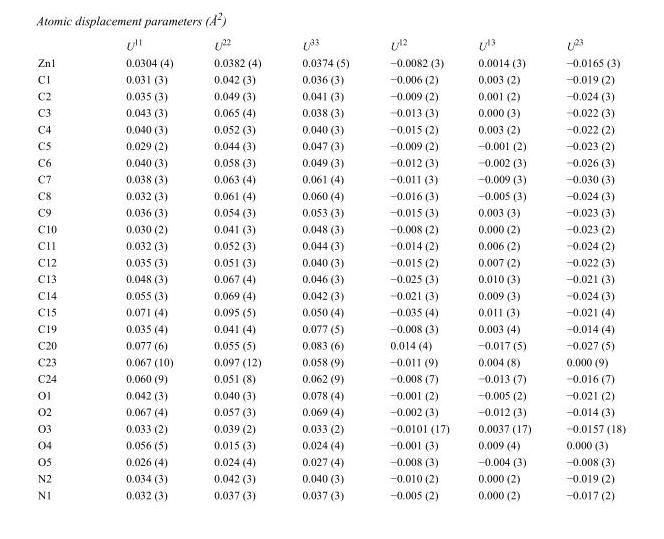table: (37, 36, 624, 500)
table column: (90, 36, 192, 500), (369, 36, 463, 500), (280, 36, 369, 500), (192, 36, 280, 500), (463, 36, 548, 500), (548, 36, 624, 500), (37, 36, 90, 500)
table column header: (37, 36, 624, 53)
table row: (37, 36, 624, 53), (37, 53, 624, 70), (37, 70, 624, 87), (37, 103, 624, 120), (37, 136, 624, 153), (37, 153, 624, 170), (37, 186, 624, 203), (37, 203, 624, 220), (37, 236, 624, 253), (37, 269, 624, 286), (37, 286, 624, 303), (37, 319, 624, 336), (37, 336, 624, 353), (37, 369, 624, 386), (37, 402, 624, 419), (37, 419, 624, 436), (37, 452, 624, 469), (37, 469, 624, 486), (37, 87, 624, 103), (37, 120, 624, 136), (37, 170, 624, 186), (37, 220, 624, 236), (37, 253, 624, 269), (37, 303, 624, 319), (37, 353, 624, 369), (37, 386, 624, 402), (37, 436, 624, 452), (37, 486, 624, 500)
